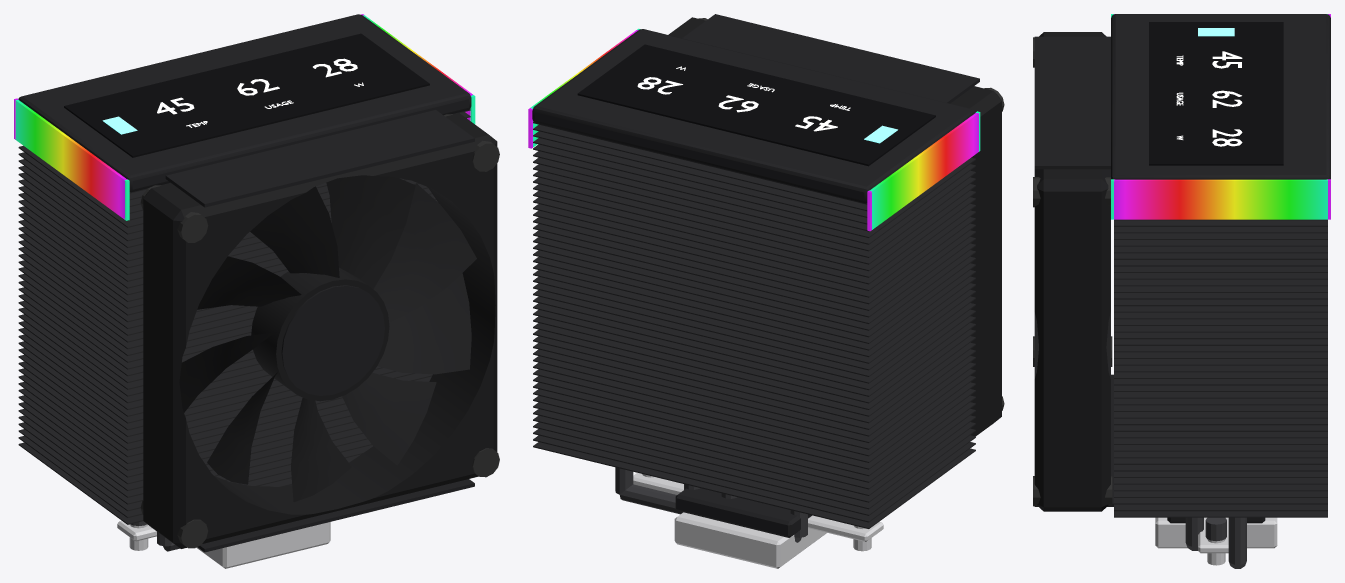
File: Cooler002.glb
3 renders of one model, left to right at view 1: azimuth 30°, elevation 25°; view 2: azimuth 150°, elevation 25°; view 3: azimuth 270°, elevation 25°, orthographic. The views are drawn at different scales.
Visible parts, largest first — view 1: Cooler002_Body, Cooler002_Fan; view 2: Cooler002_Body, Cooler002_Fan; view 3: Cooler002_Body, Cooler002_Fan.
Boxes of the visible parts, x1,y1,x2,y2 form: Cooler002_Body: [14, 14, 475, 568]; Cooler002_Fan: [140, 113, 499, 548]; Cooler002_Body: [528, 14, 980, 568]; Cooler002_Fan: [668, 17, 1004, 436]; Cooler002_Body: [1034, 14, 1330, 568]; Cooler002_Fan: [1033, 32, 1112, 511].
Size of the model in its own units: 0.1292 by 0.1558 by 0.0975.
Materials: 10 (1 with a texture image).
